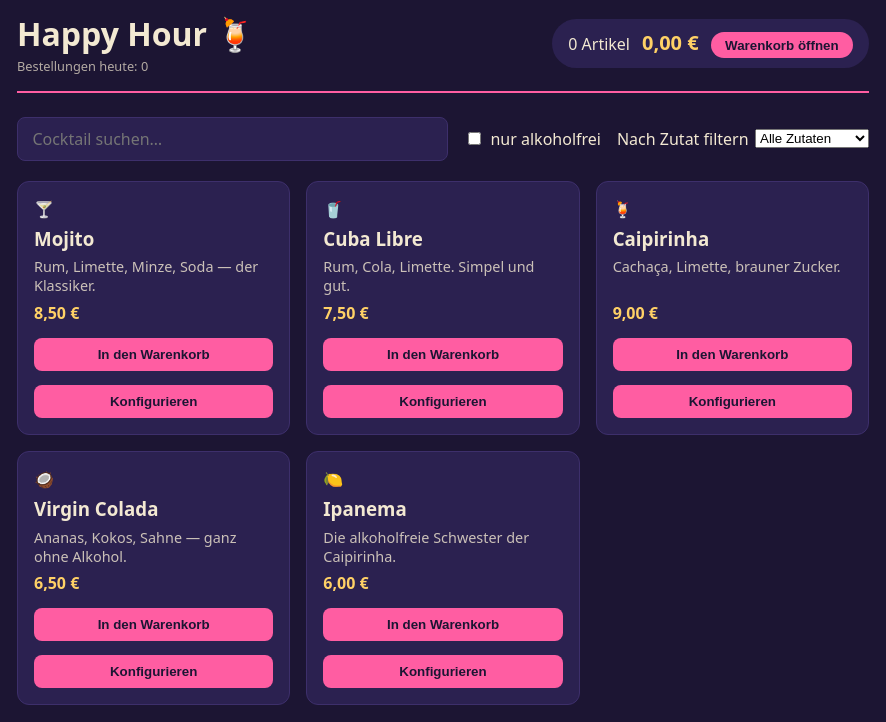
App › filtert die Cocktail-Liste (verzögert) über die Suche
Type "Virgin" into the search field labelled "Cocktail suchen…" at x=232, y=139, box [17,117,448,161]
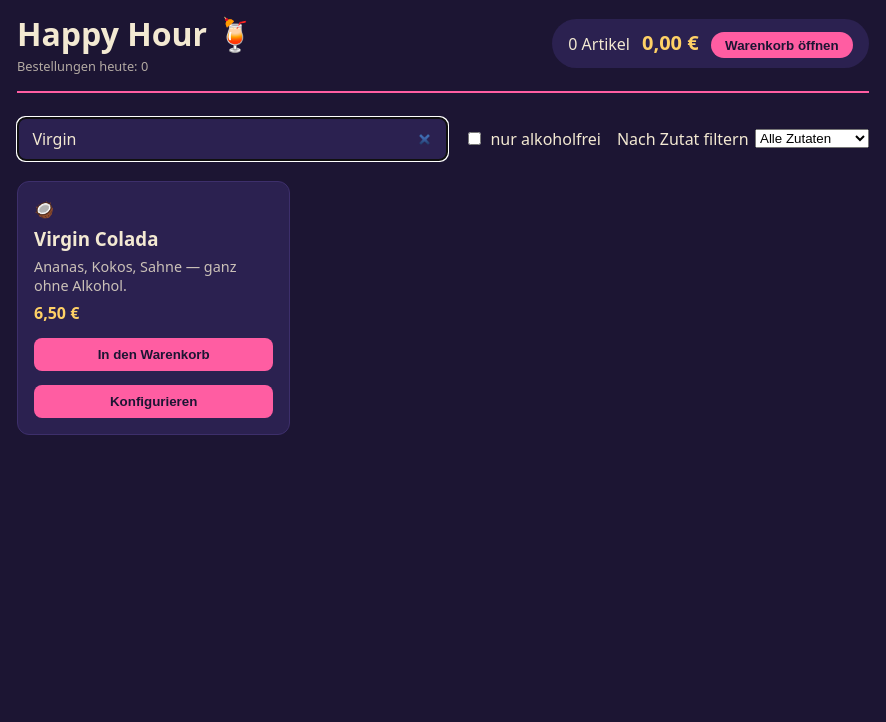
Expected: the heading "Virgin Colada" is shown, [34,226,158,251]
Now the heading "Mojito" is gone
